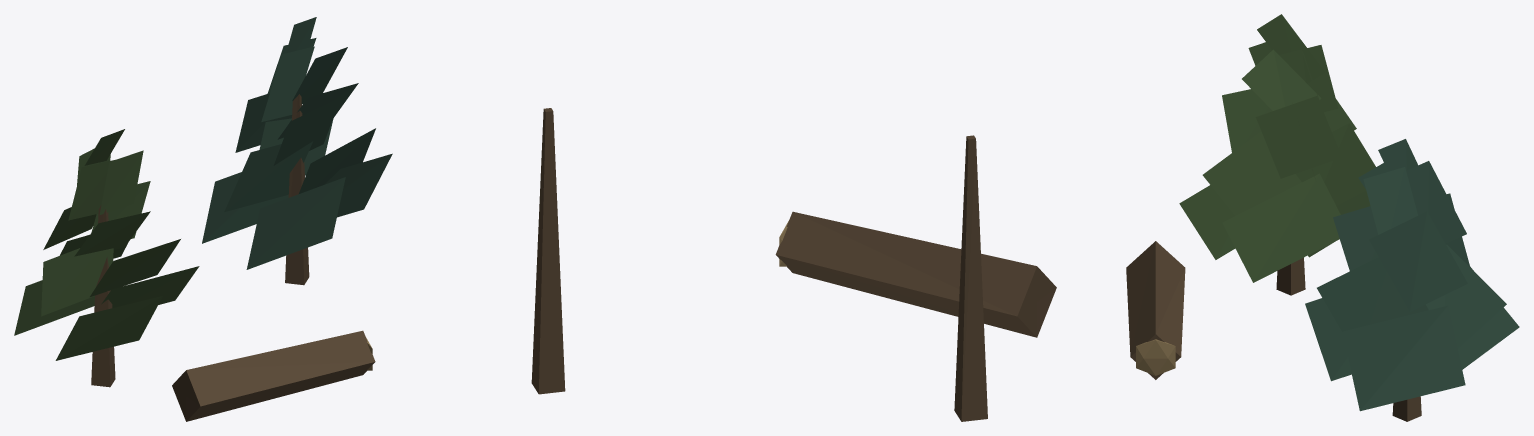
Rendered from small_timber_patch-far.glb.
3 renders of one model, left to right at view 1: azimuth 30°, elevation 25°; view 2: azimuth 150°, elevation 25°; view 3: azimuth 270°, elevation 25°, orthographic. The views are drawn at different scales.
Visible parts, largest first — view 1: world-scenery/small_timber_patch-far; view 2: world-scenery/small_timber_patch-far; view 3: world-scenery/small_timber_patch-far.
Part boxes in pixels (x1,y1,x2,y2): world-scenery/small_timber_patch-far: [14, 17, 392, 421]; world-scenery/small_timber_patch-far: [531, 108, 1056, 421]; world-scenery/small_timber_patch-far: [1126, 14, 1519, 421].
Size of the model in its own units: 3.67 by 2.3 by 2.98.
